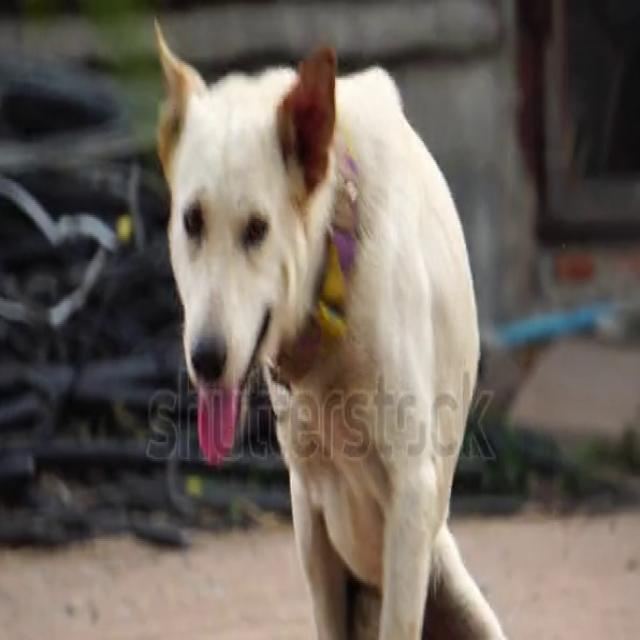injured-animals: (146, 13, 543, 638)
